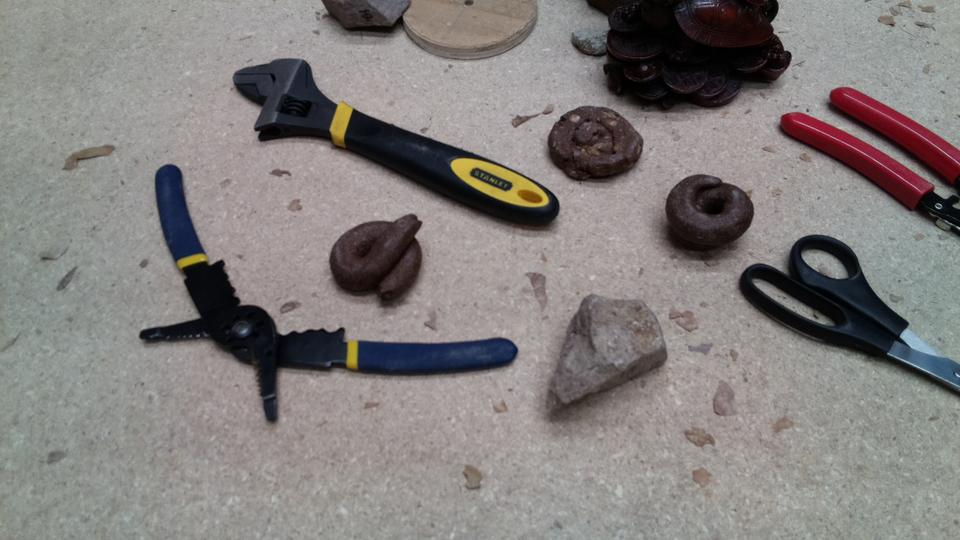poop: (326, 210, 429, 304), (546, 102, 645, 186), (663, 171, 756, 255)
